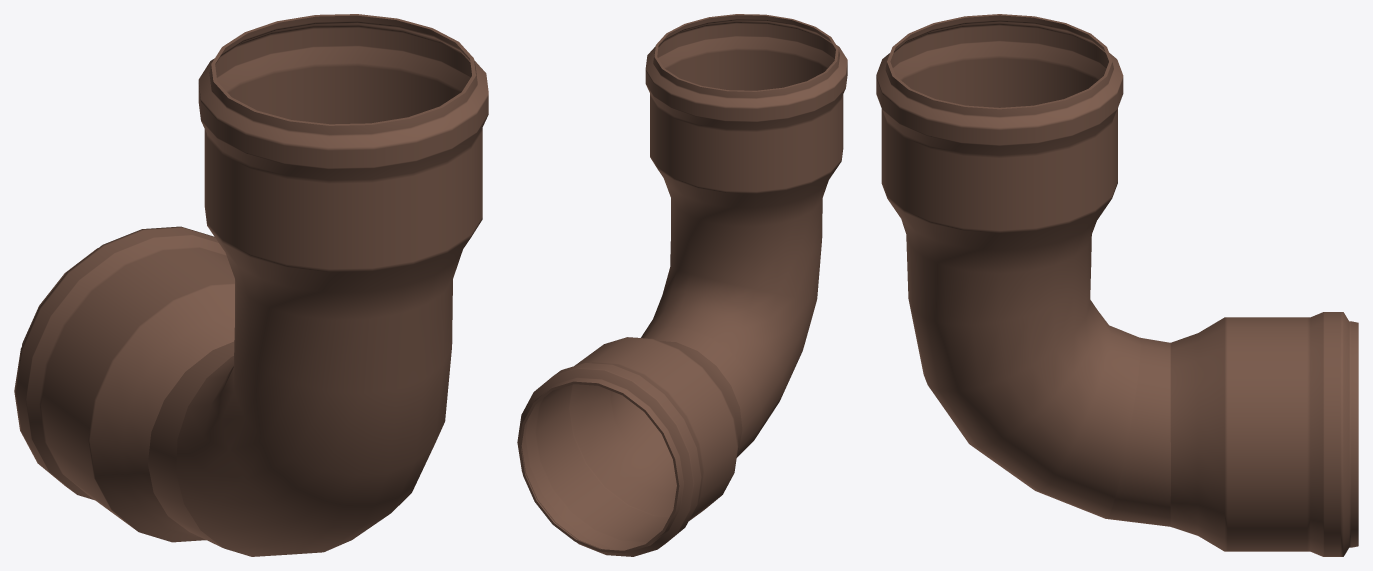
The model's file is Pipes_corner_end_unit.fbx.
3 views of the same model, side by side, from view 1: azimuth 30°, elevation 25°; view 2: azimuth 150°, elevation 25°; view 3: azimuth 270°, elevation 25° (orthographic). The views are drawn at different scales.
Parts seen in each view (by area): view 1: pCylinder19; view 2: pCylinder19; view 3: pCylinder19.
Boxes of the visible parts, left/top/right/bottom form: pCylinder19: left=14, top=14, right=488, bottom=556; pCylinder19: left=517, top=14, right=847, bottom=556; pCylinder19: left=876, top=14, right=1358, bottom=556.
Bounding box in the file's own units: 0.2171 × 0.47 × 0.424.
